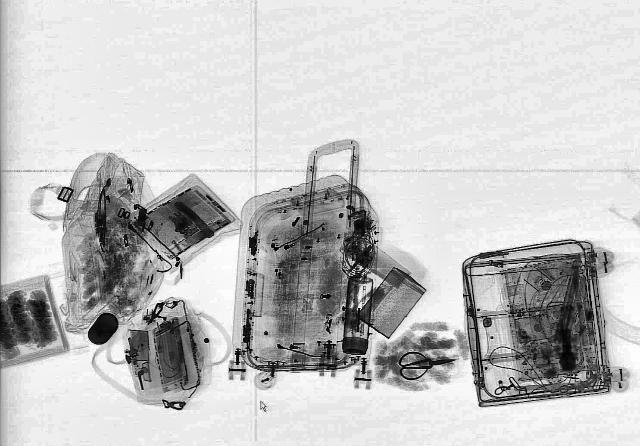Scissors: (393, 346, 459, 381)
